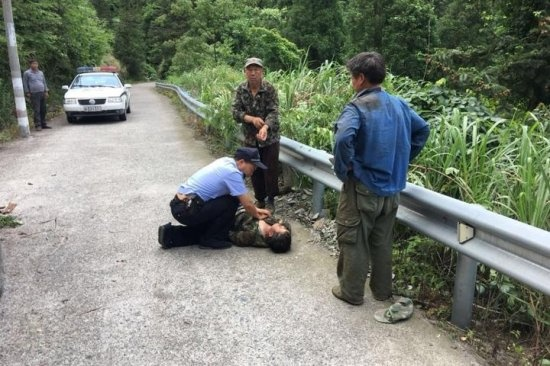falling: (232, 197, 294, 256)
